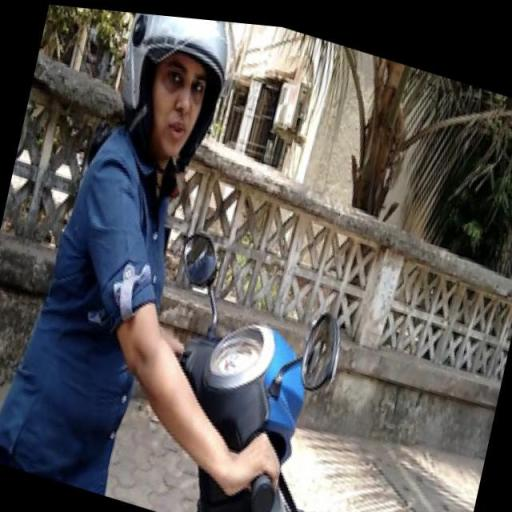Helmet: (98, 6, 248, 174)
Motor: (108, 244, 388, 512)
